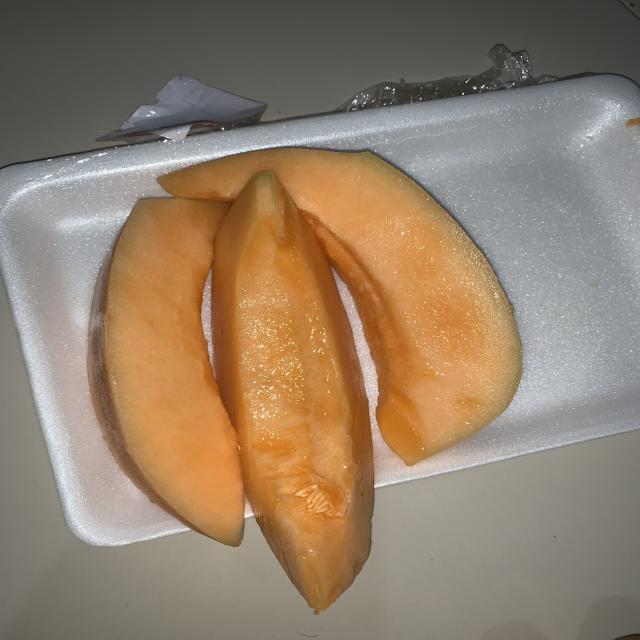melon: (218, 216, 372, 610), (354, 147, 536, 456), (86, 233, 228, 546)
